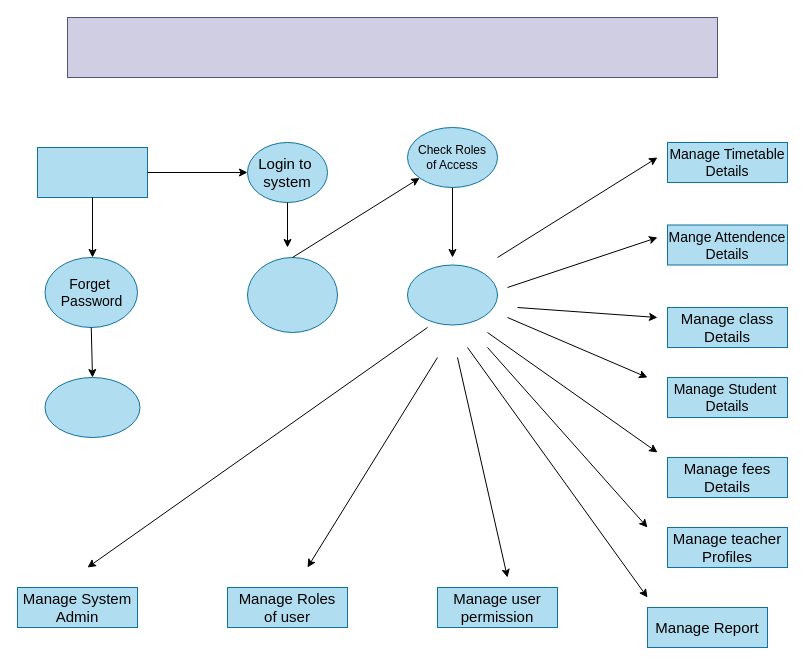
Some shapes in this 805 by 665 pixel diagram are drawn without their labels. The shapes that lost their labels are listed below. From the top down, each one's centre as x and y in pixels, then its label:
the point at 392,47: STUDENT INFORMATION SYSTEM
the point at 92,172: Admin
the point at 292,294: check credentials
the point at 452,294: Manage Modules
the point at 92,407: Send Email to User
